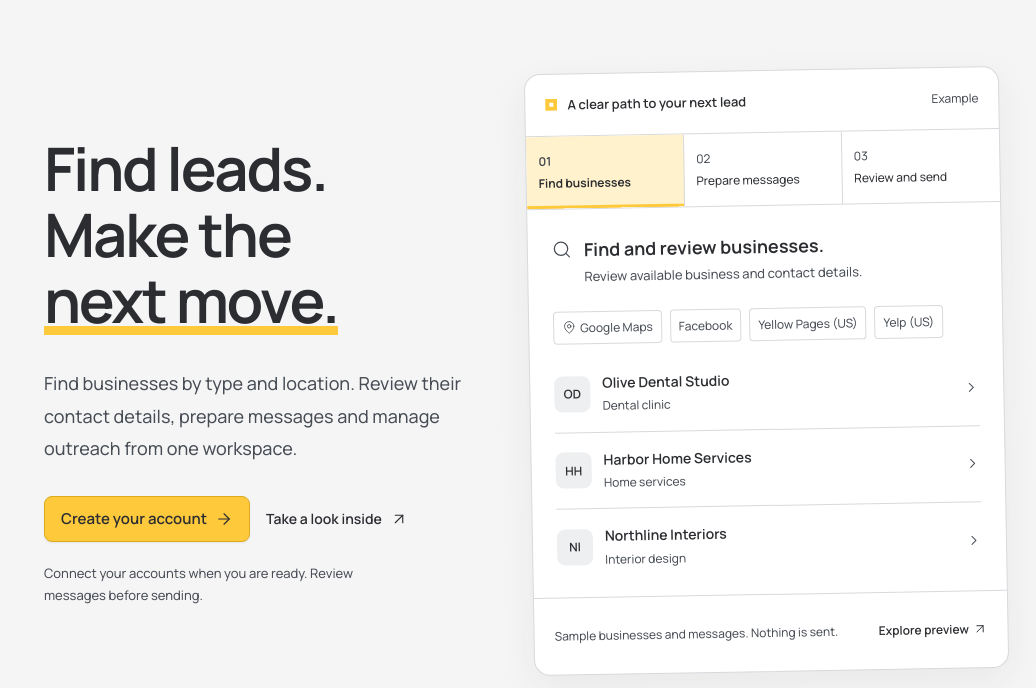
it: first-time visitors get distinct sign-in, account creation and sample preview paths
The image size is (1036, 688).
Click the link "Create your account" at (147, 519), box left=44, top=496, right=250, bottom=542
(page scrolled)
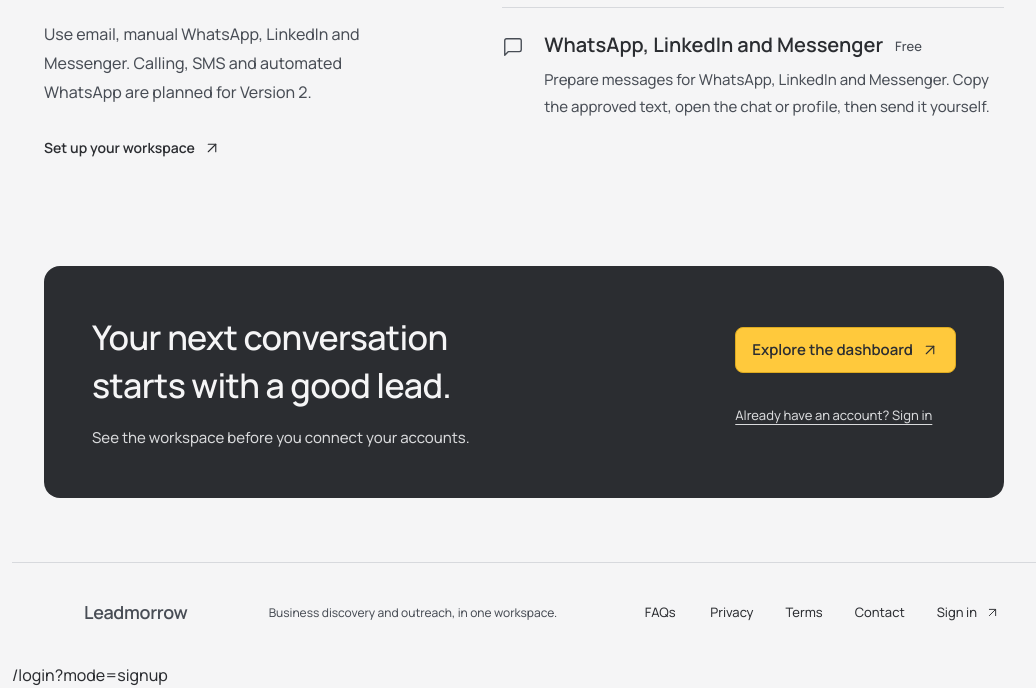
Expected: the text "/login?mode=signup" is shown, left=12, top=664, right=168, bottom=686
